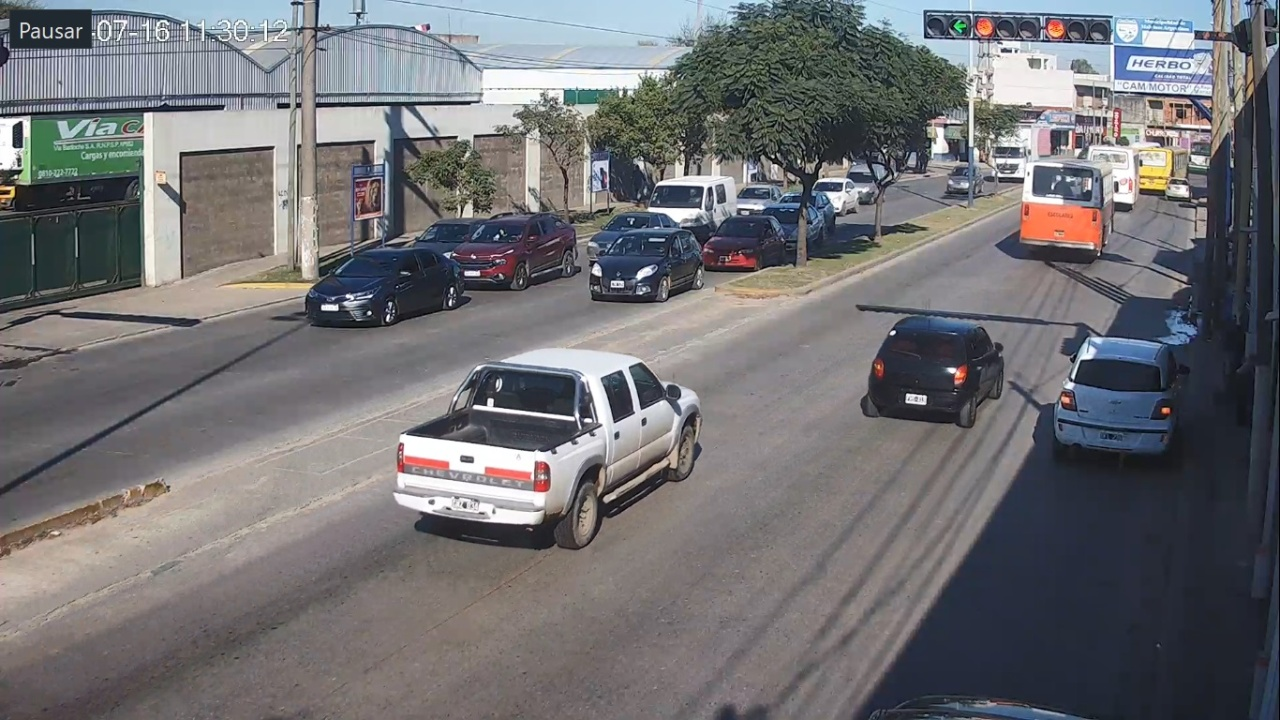bus: (1019, 160, 1119, 258)
car: (394, 349, 703, 550), (1053, 335, 1191, 465), (867, 316, 1004, 427)
front car: (305, 246, 464, 326), (589, 228, 704, 302)
traffic light: (974, 13, 1112, 43)
